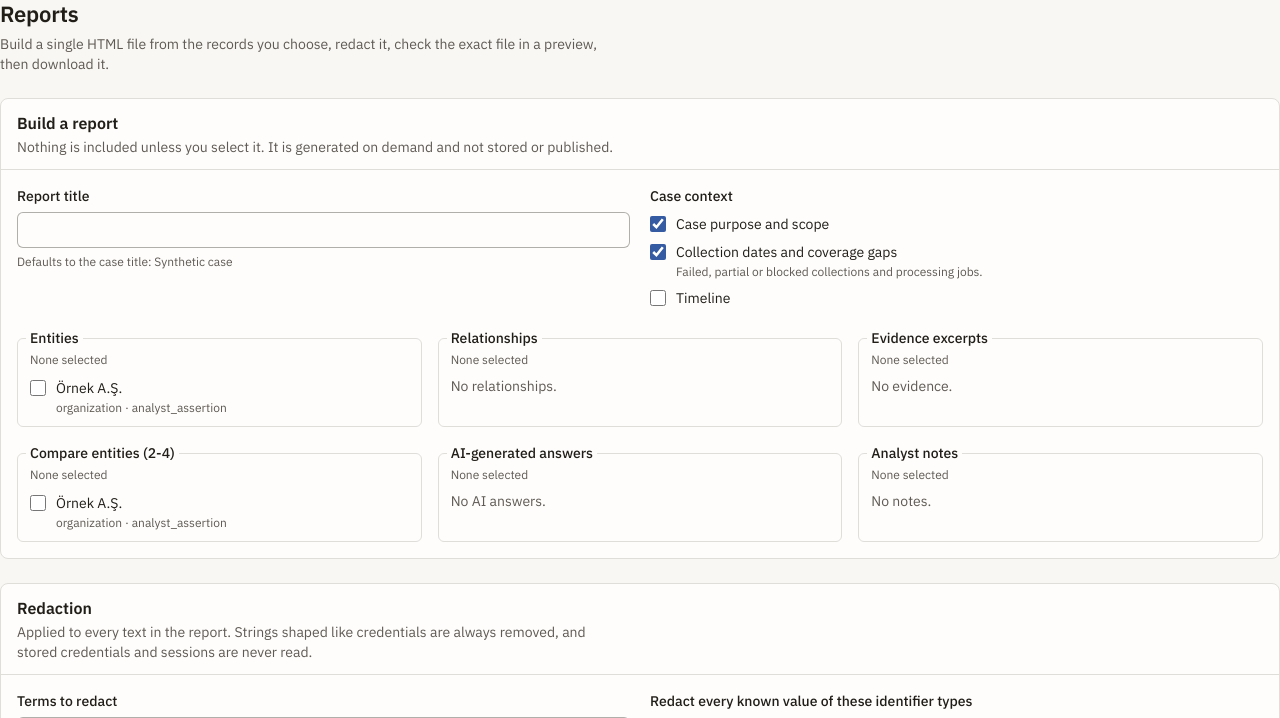
Scenario: reports › previews the report in a sandboxed frame before download is enabled
Step 1. Click the 1st checkbox labelled "Örnek A.Ş. organization · analyst_assertion" → x=38, y=388, box left=30, top=380, right=46, bottom=396
(page scrolled)
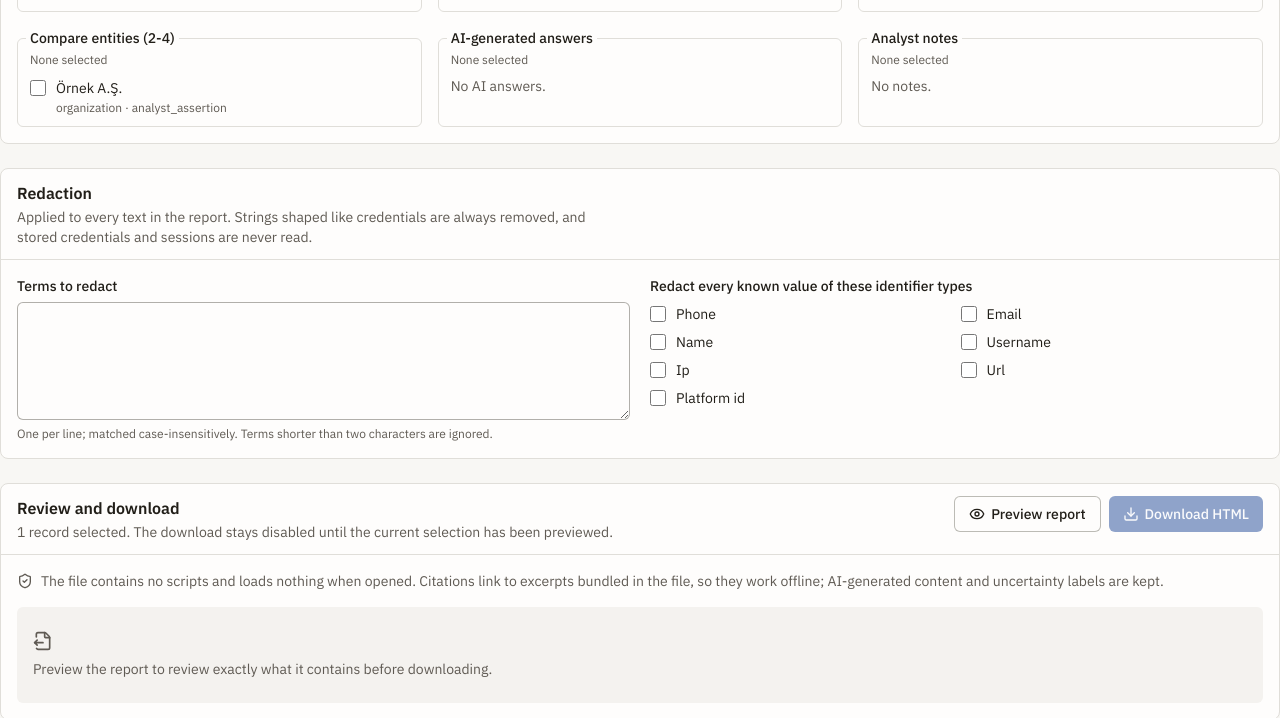
Expected: the button "Download HTML" is disabled, left=1109, top=496, right=1263, bottom=532
Step 2. Click the button "Preview report" → x=1027, y=514, box left=954, top=496, right=1101, bottom=532
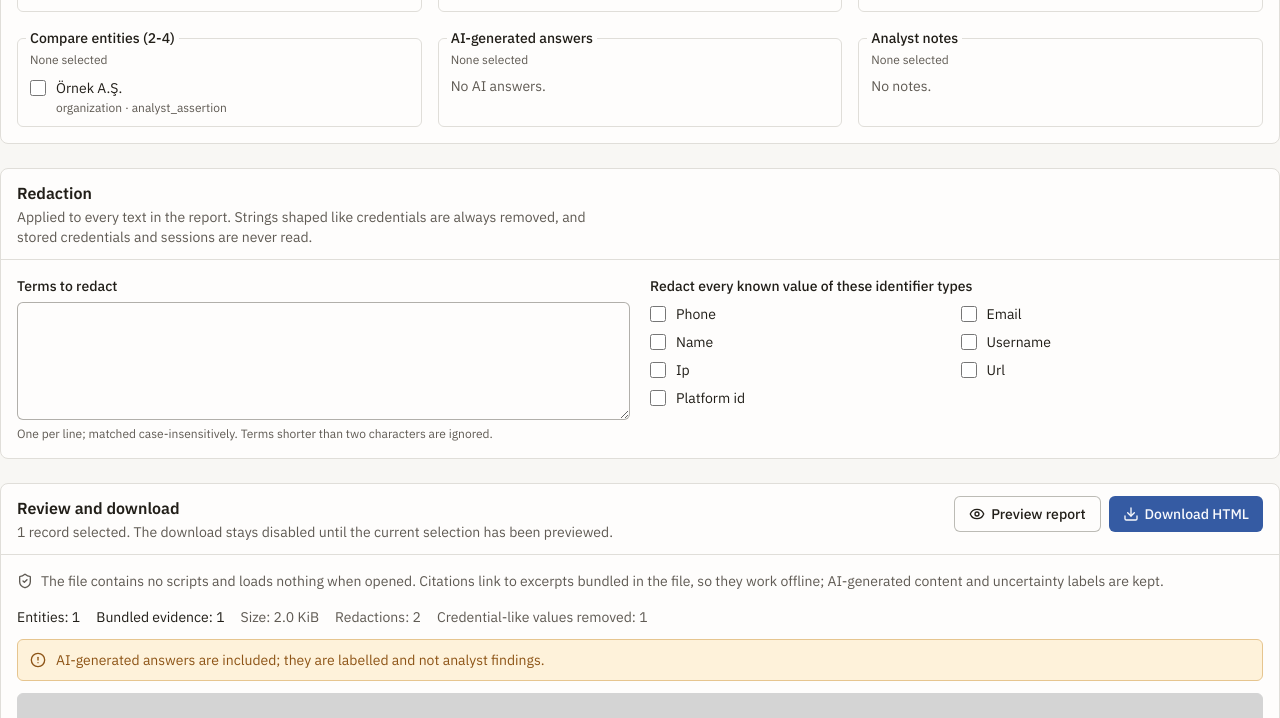
Expected: the text "AI-generated answers are included" is shown, left=56, top=651, right=544, bottom=669
Expected: the button "Download HTML" is enabled, left=1109, top=496, right=1263, bottom=532
